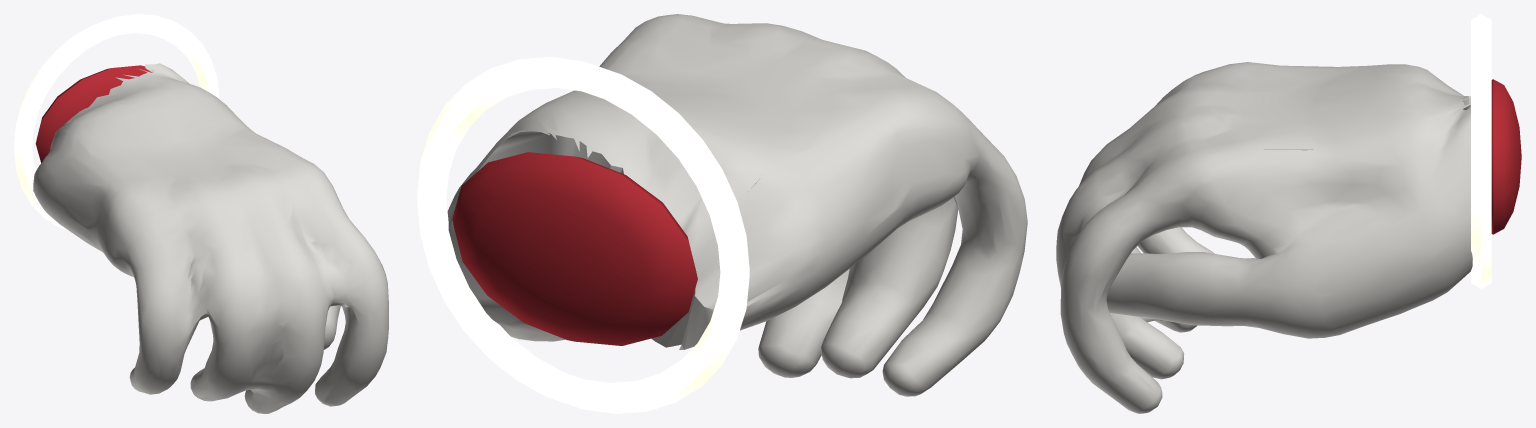
File: mao_projetil.glb
3 views of the same model, side by side, from view 1: azimuth 30°, elevation 25°; view 2: azimuth 150°, elevation 25°; view 3: azimuth 270°, elevation 25° (orthographic). The views are drawn at different scales.
Parts seen in each view (by area): view 1: mao_projetil; view 2: mao_projetil; view 3: mao_projetil.
Boxes of the visible parts, x1,y1,x2,y2 form: mao_projetil: [14, 14, 388, 413]; mao_projetil: [417, 14, 1027, 413]; mao_projetil: [1056, 14, 1521, 413].
Bounding box in the file's own units: 0.1123 × 0.1272 × 0.1555.
